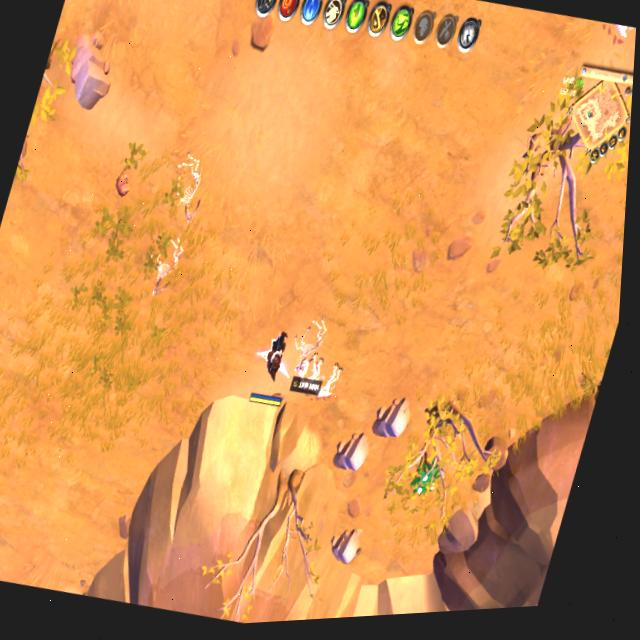hide: (407, 454, 442, 502)
red: (244, 328, 300, 413)
